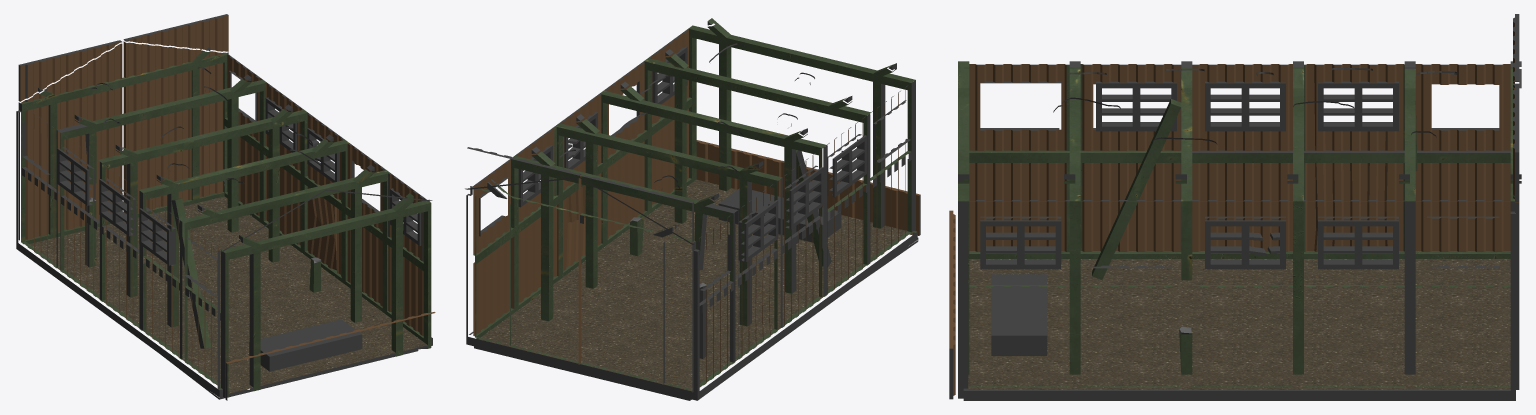
The model's file is warehouse.glb.
The picture shows the model from 3 angles, left to right: view 1: azimuth 30°, elevation 25°; view 2: azimuth 150°, elevation 25°; view 3: azimuth 270°, elevation 25°; orthographic projection. The views are drawn at different scales.
Visible parts, largest first — view 1: group_0_10988977.001, Plane; view 2: group_0_10988977.001, Plane; view 3: group_0_10988977.001, Plane.
Part boxes in pixels (box(x1,y1,x2,y2)): group_0_10988977.001: box(16, 14, 435, 400); Plane: box(26, 196, 427, 393); group_0_10988977.001: box(465, 18, 920, 400); Plane: box(478, 179, 908, 391); group_0_10988977.001: box(949, 14, 1521, 400); Plane: box(968, 259, 1510, 389).
Size of the model in its own units: 60.53 by 49.5 by 103.
Materials: 6 (3 with a texture image).
